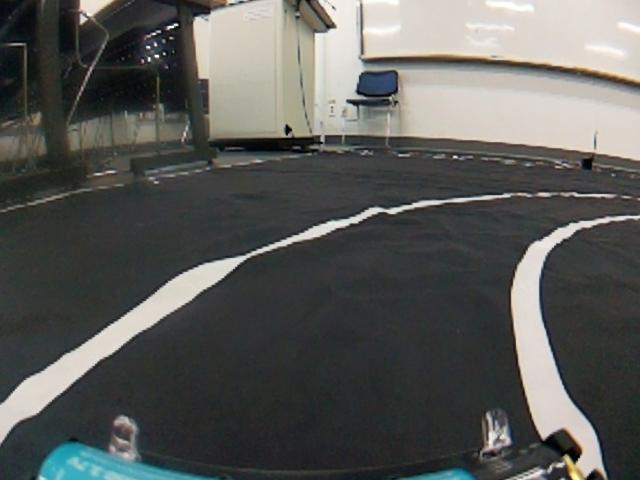straight: (10, 266, 640, 479)
